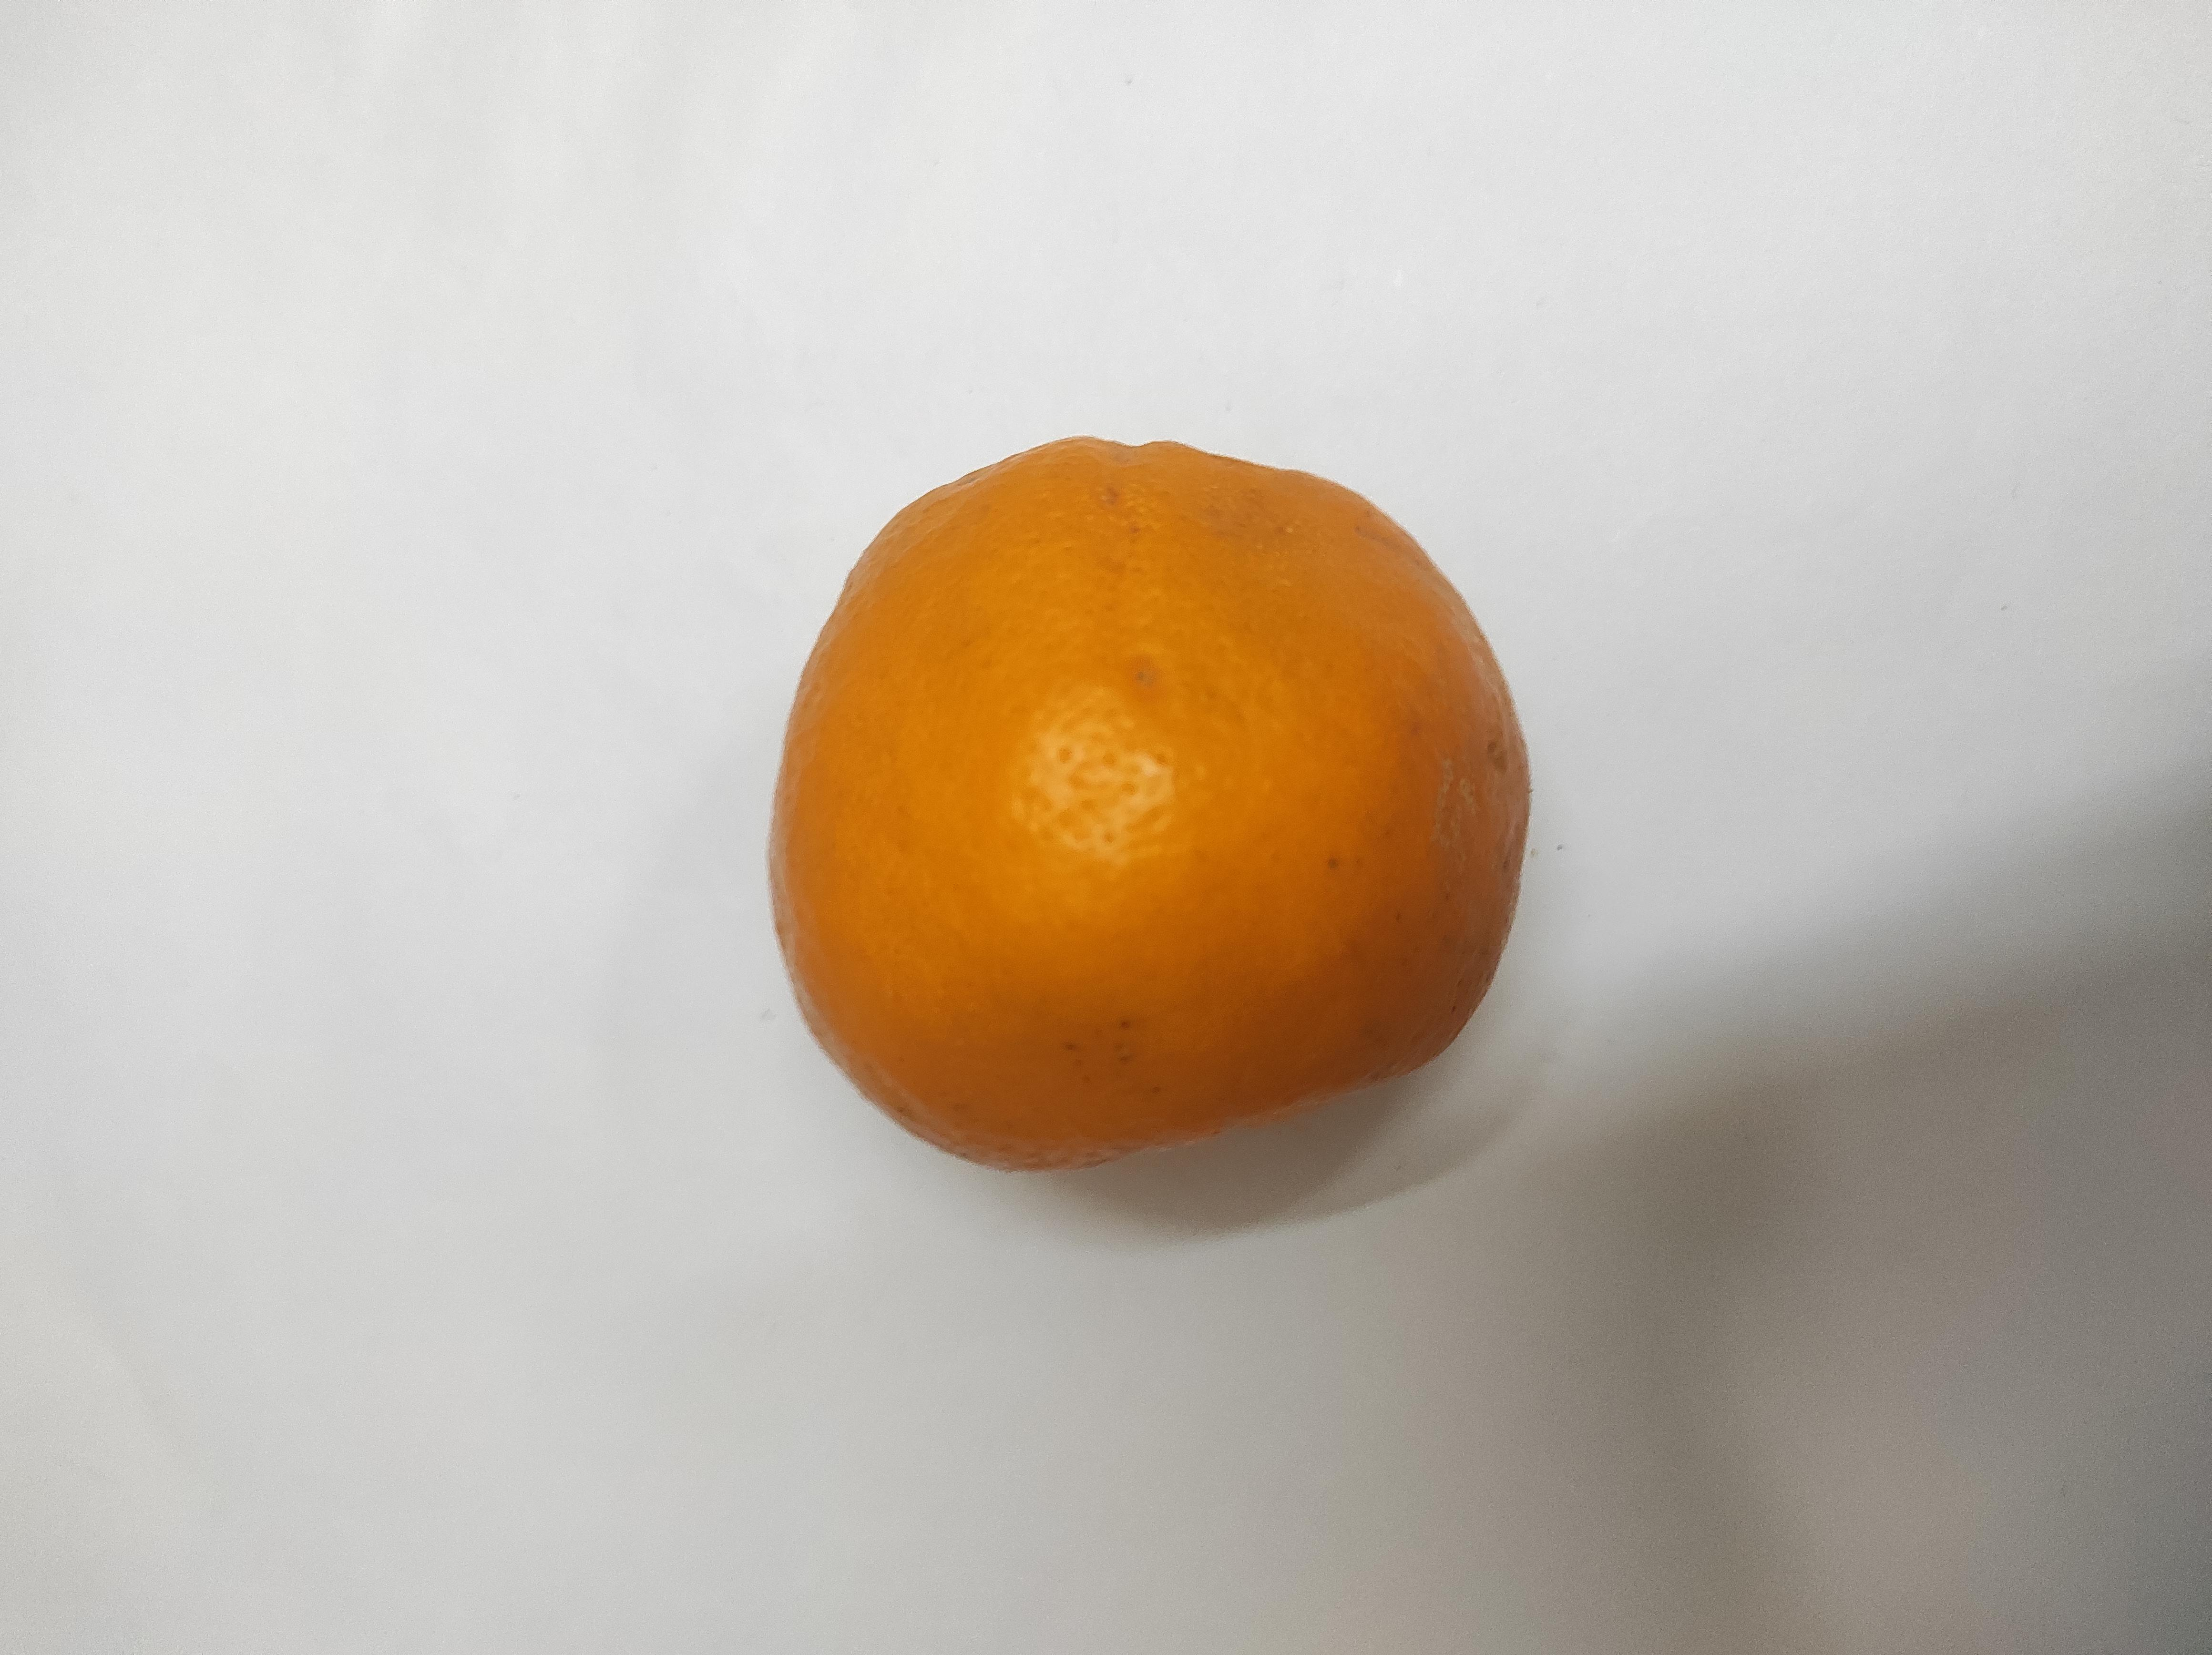Ripe: (767, 438, 1525, 1163)
